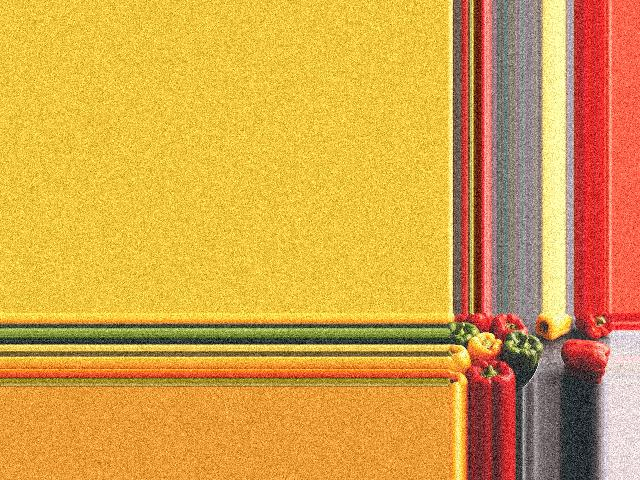bell_pepper: (574, 315, 613, 338)
